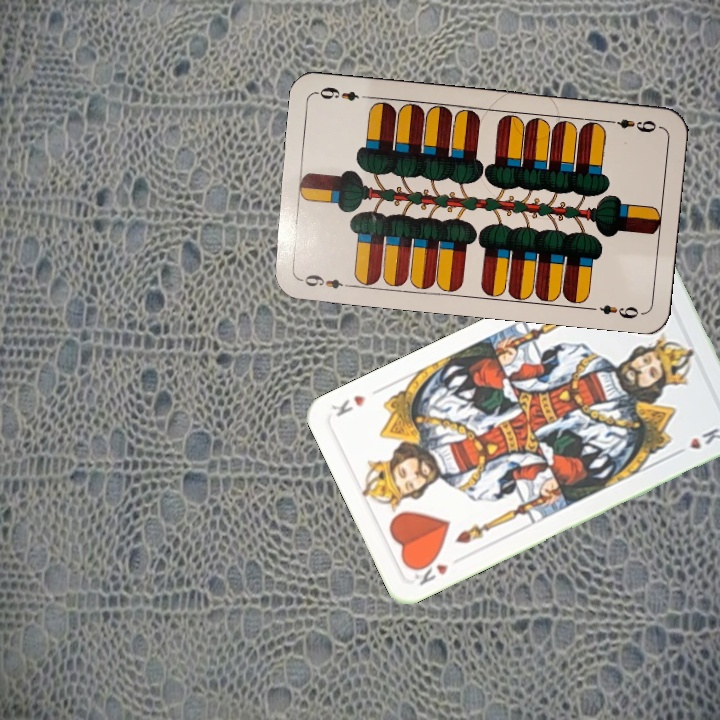E9: (296, 270, 355, 291), (603, 115, 659, 136)
HK: (409, 553, 451, 588)
